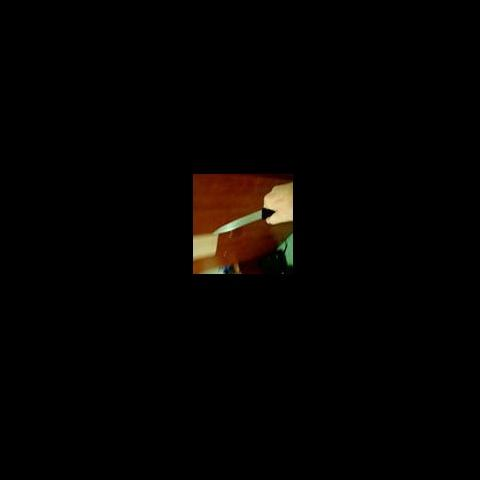knife: (212, 208, 276, 236)
